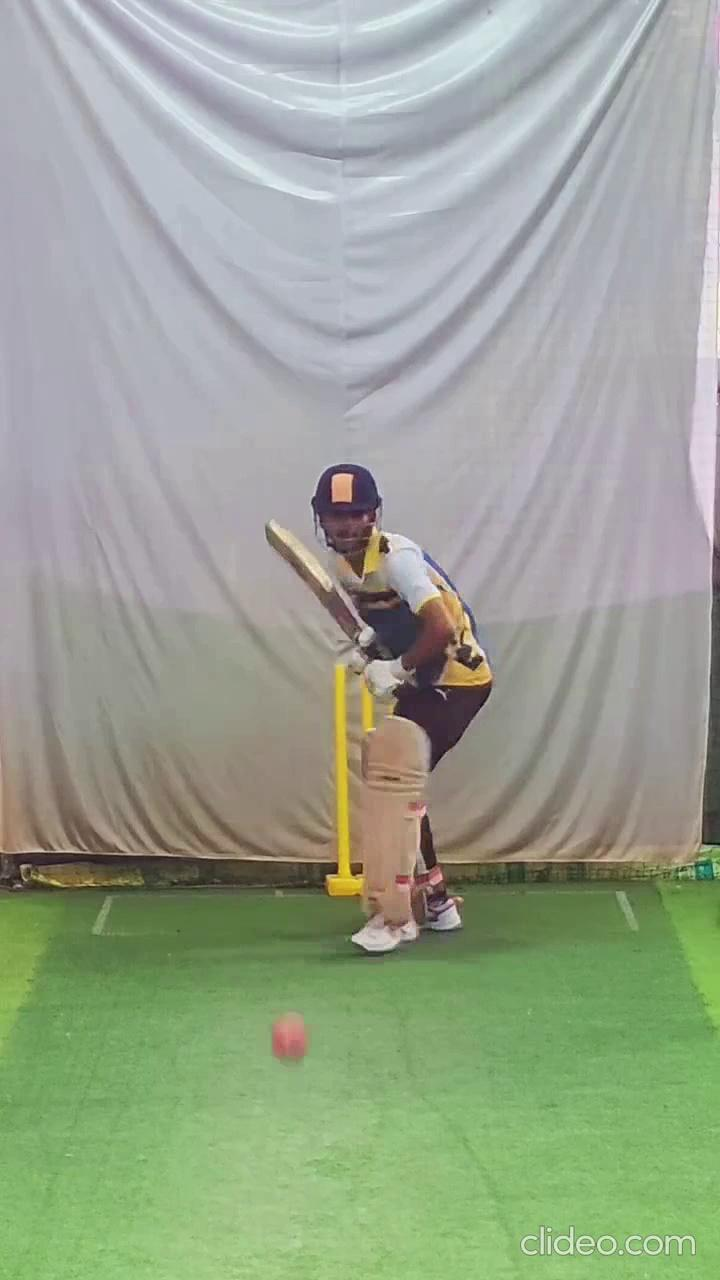bat: (255, 509, 370, 651)
